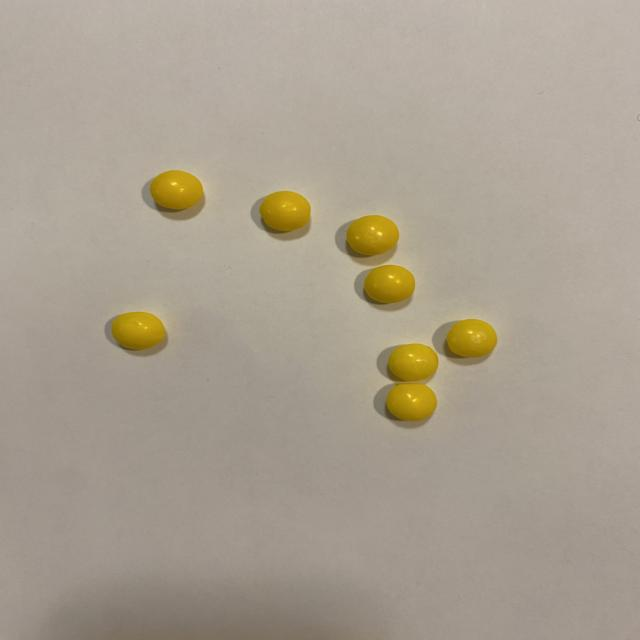smartie: (149, 170, 202, 210), (346, 215, 399, 255), (110, 312, 165, 350), (259, 191, 310, 231), (447, 319, 497, 358), (364, 265, 415, 303), (387, 382, 436, 420), (388, 344, 438, 381)
